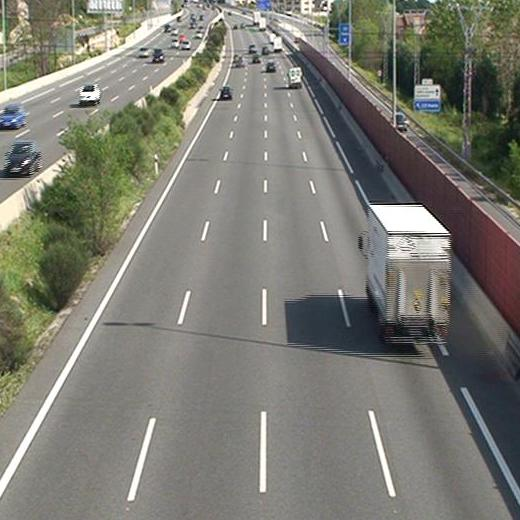car: (219, 86, 233, 100), (265, 61, 276, 71), (249, 53, 260, 63), (236, 56, 245, 67)
small-truck: (364, 203, 450, 346)
van: (288, 66, 302, 87)
